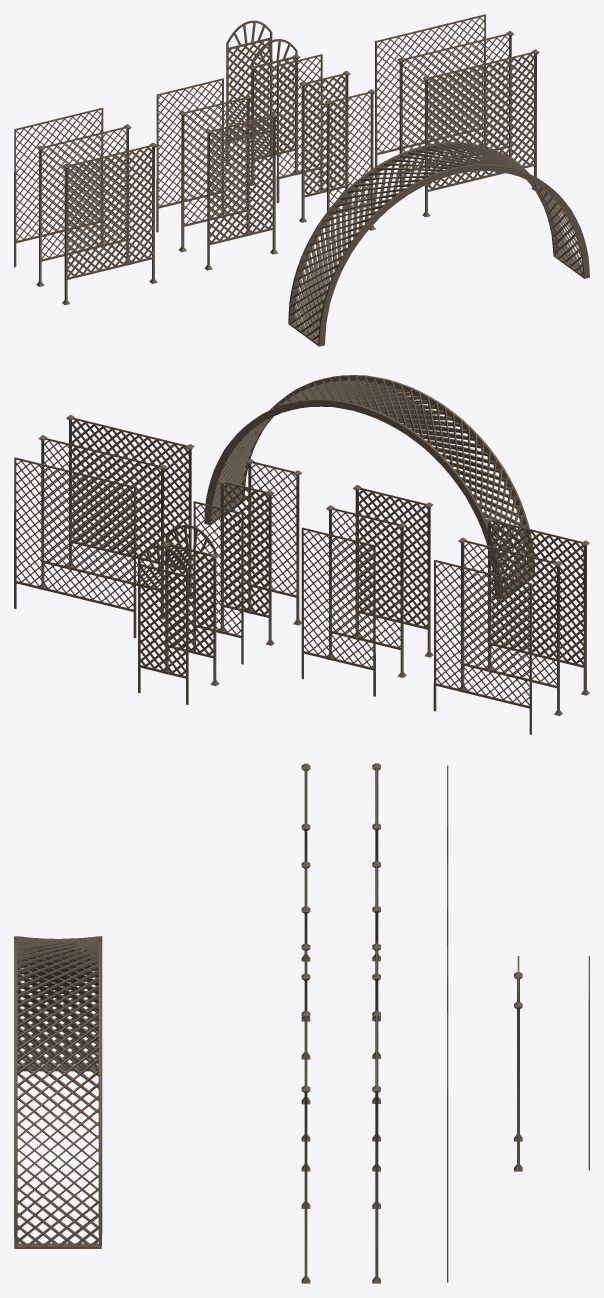
The model's file is GardenLattice-Sketchfab.fbx.
3 renders of one model, top to bottom at view 1: azimuth 30°, elevation 25°; view 2: azimuth 150°, elevation 25°; view 3: azimuth 270°, elevation 25°, orthographic. The views are drawn at different scales.
Parts seen in each view (by area): view 1: Plane.019, Plane.040, Plane.037, Plane.035, Plane.046, Plane.029, Plane.031, Plane.033, Plane.045, Plane.027, Plane.044, Plane.041 (+3 smaller); view 2: Plane.019, Plane.046, Plane.040, Plane.037, Plane.045, Plane.035, Plane.031, Plane.044, Plane.029, Plane.033, Plane.047, Plane.027 (+3 smaller); view 3: Plane.019, Plane.040, Plane.031, Plane.041.
Part boxes in pixels (left/top/right/bottom): Plane.019: left=288, top=142, right=589, bottom=346; Plane.040: left=422, top=49, right=539, bottom=217; Plane.037: left=62, top=142, right=157, bottom=305; Plane.035: left=204, top=113, right=277, bottom=270; Plane.046: left=375, top=14, right=486, bottom=177; Plane.029: left=36, top=124, right=131, bottom=286; Plane.031: left=397, top=31, right=514, bottom=197; Plane.033: left=299, top=71, right=350, bottom=222; Plane.045: left=14, top=107, right=103, bottom=267; Plane.027: left=179, top=95, right=251, bottom=252; Plane.044: left=156, top=78, right=224, bottom=232; Plane.041: left=249, top=39, right=300, bottom=185; Plane.019: left=204, top=375, right=534, bottom=599; Plane.046: left=14, top=457, right=136, bottom=638; Plane.040: left=66, top=415, right=194, bottom=599; Plane.037: left=485, top=517, right=589, bottom=695; Plane.045: left=433, top=560, right=531, bottom=734; Plane.035: left=353, top=485, right=433, bottom=657; Plane.031: left=38, top=435, right=166, bottom=619; Plane.044: left=301, top=527, right=375, bottom=696; Plane.029: left=458, top=537, right=562, bottom=715; Plane.033: left=218, top=479, right=274, bottom=645; Plane.047: left=138, top=545, right=188, bottom=704; Plane.027: left=326, top=505, right=406, bottom=677; Plane.019: left=14, top=936, right=102, bottom=1248; Plane.040: left=301, top=1011, right=310, bottom=1283; Plane.031: left=372, top=1010, right=380, bottom=1283; Plane.041: left=514, top=956, right=522, bottom=1171.
Bounding box in the file's own units: 664 × 194 × 496.
